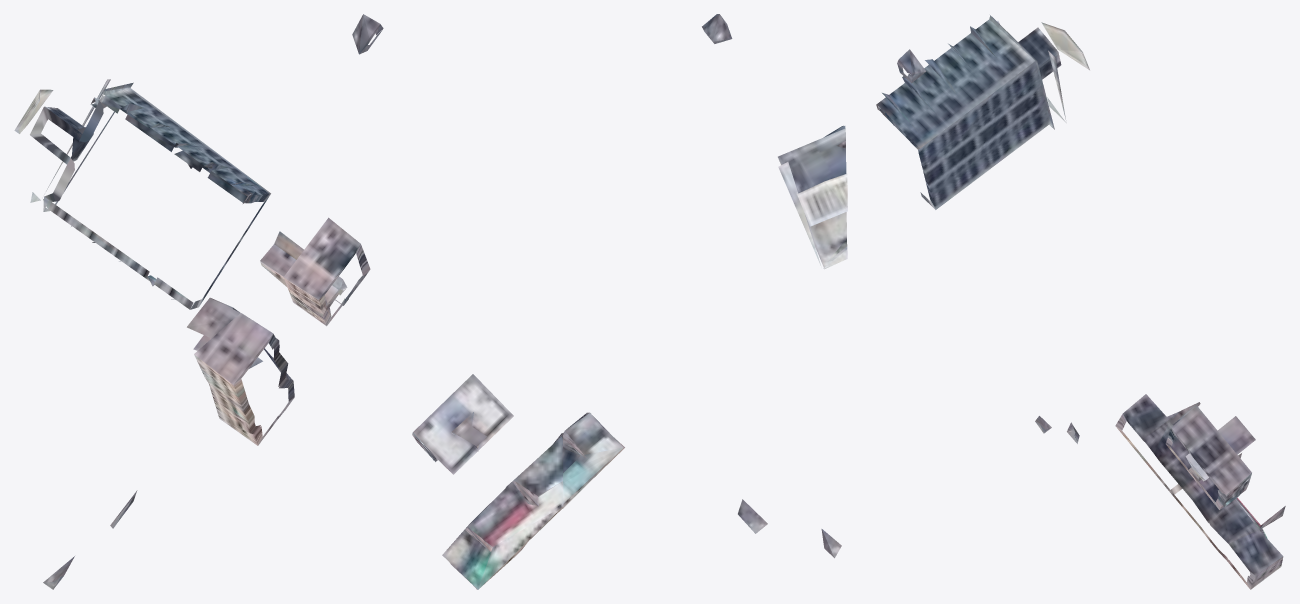
3 views of the same model, side by side, from view 1: azimuth 30°, elevation 25°; view 2: azimuth 150°, elevation 25°; view 3: azimuth 270°, elevation 25° (orthographic). The views are drawn at different scales.
Bounding box in the file's own units: 101 × 128 × 95.3.
1 material, 1 textured.
